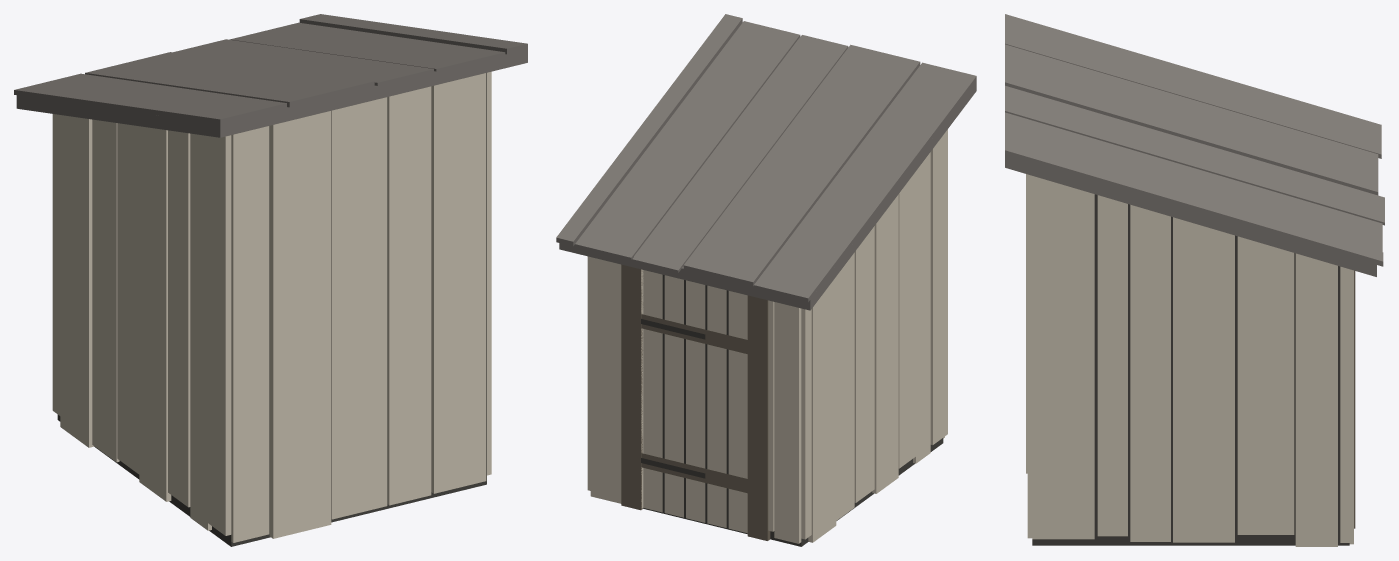
File: recon_1835_blk_randolph_clinton_a3_10__inferred_1835.glb
3 renders of one model, left to right at view 1: azimuth 30°, elevation 25°; view 2: azimuth 150°, elevation 25°; view 3: azimuth 270°, elevation 25°, orthographic. The views are drawn at different scales.
Parts seen in each view (by area): view 1: recon_1835_blk_randolph_clinton_a3_10__inferred_1835; view 2: recon_1835_blk_randolph_clinton_a3_10__inferred_1835; view 3: recon_1835_blk_randolph_clinton_a3_10__inferred_1835.
Boxes of the visible parts, box(x1,y1,x2,y2) form: recon_1835_blk_randolph_clinton_a3_10__inferred_1835: box(14, 14, 527, 546); recon_1835_blk_randolph_clinton_a3_10__inferred_1835: box(556, 14, 976, 546); recon_1835_blk_randolph_clinton_a3_10__inferred_1835: box(1005, 14, 1384, 546).
Size of the model in its own units: 2.02 by 2.8 by 2.37.
